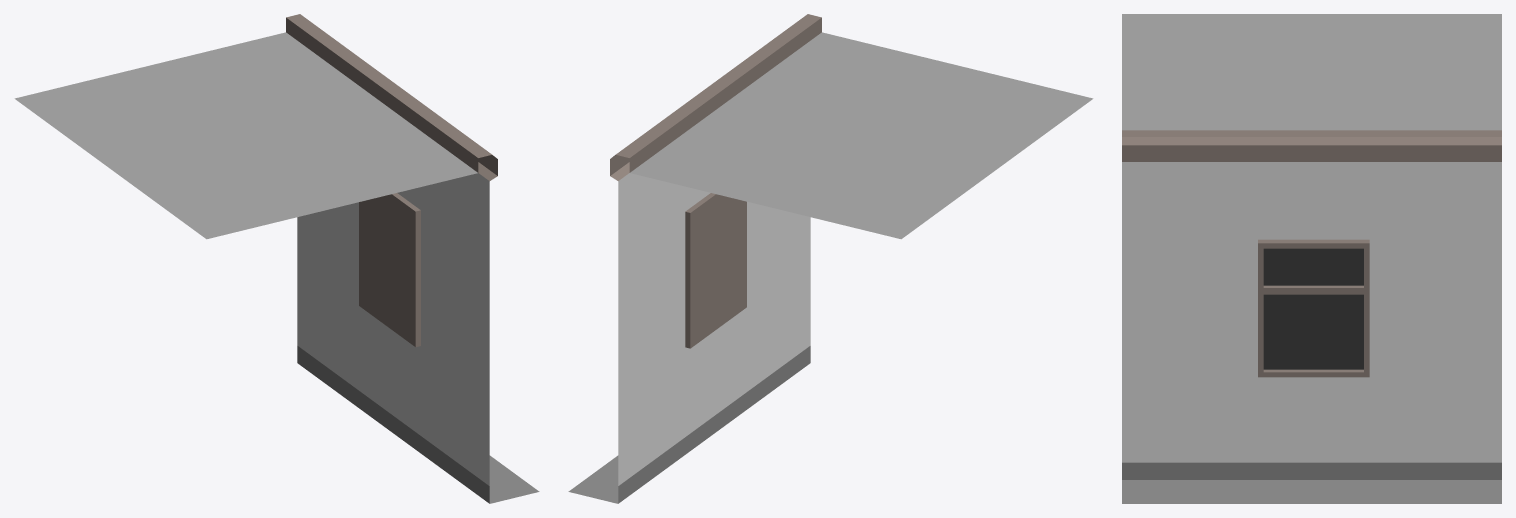
Rendered from house_edge_mesh.fbx.
3 views of the same model, side by side, from view 1: azimuth 30°, elevation 25°; view 2: azimuth 150°, elevation 25°; view 3: azimuth 270°, elevation 25° (orthographic).
Parts seen in each view (by area): view 1: house_edge_mesh; view 2: house_edge_mesh; view 3: house_edge_mesh.
Part boxes in pixels (left/top/right/bottom): house_edge_mesh: left=14, top=14, right=539, bottom=503; house_edge_mesh: left=568, top=14, right=1093, bottom=503; house_edge_mesh: left=1122, top=14, right=1501, bottom=503.
Bounding box in the file's own units: 1 × 1 × 1.
